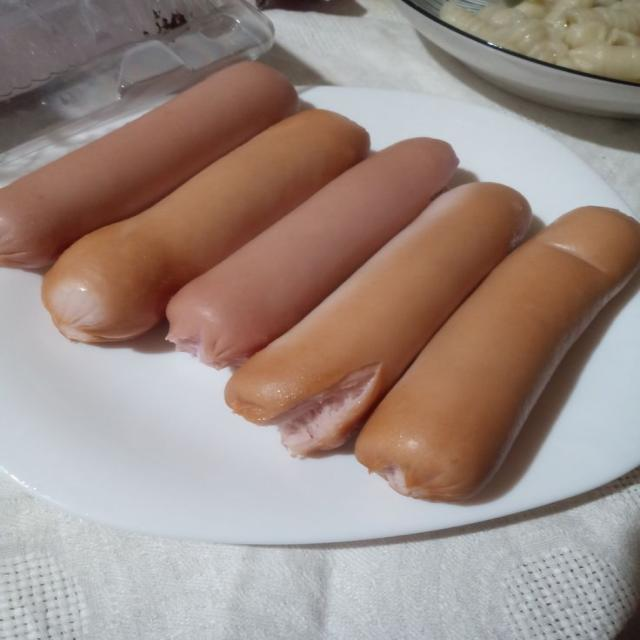sausage: (356, 207, 639, 501), (226, 183, 530, 455), (42, 110, 369, 341), (167, 138, 458, 367), (0, 62, 298, 268)
